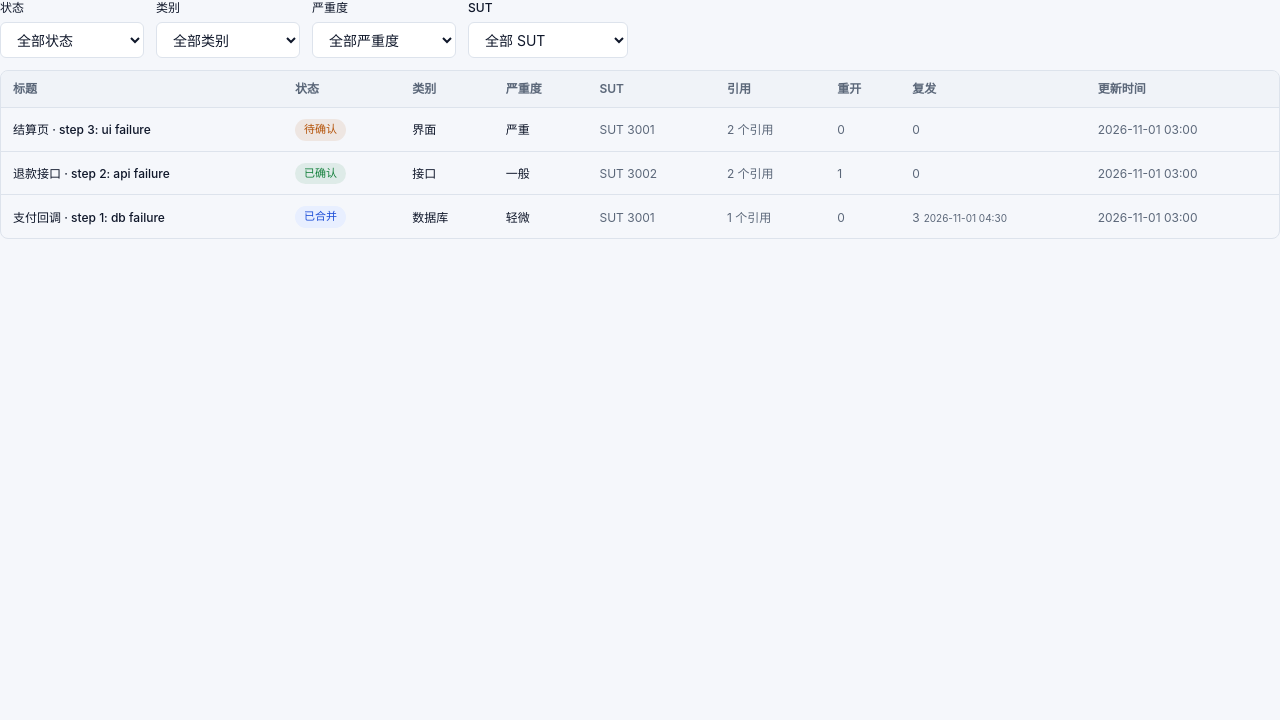
Test case: IssuesTab › closes the detail sheet and removes ?issue= from the URL
Click the button with test id "issue-9101".
click(82, 130)  # box [13, 122, 151, 138]
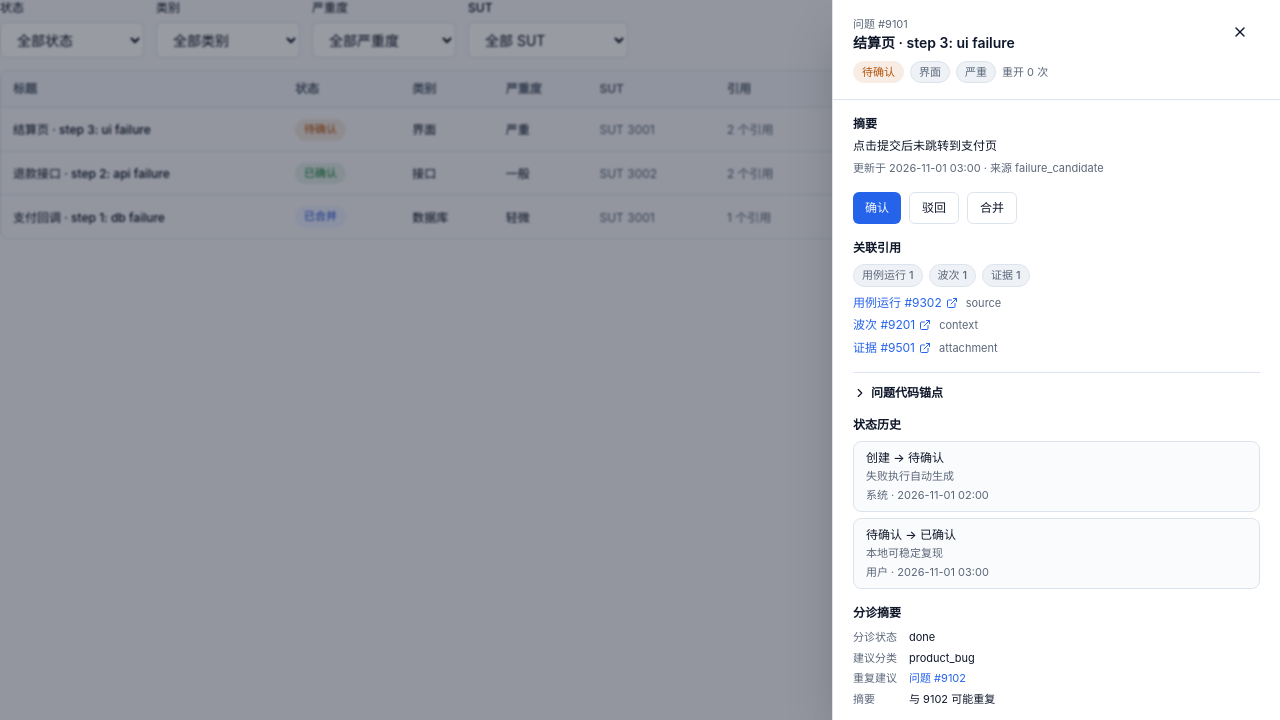
Click the button named "关闭详情".
click(1240, 32)  # box [1220, 16, 1260, 48]
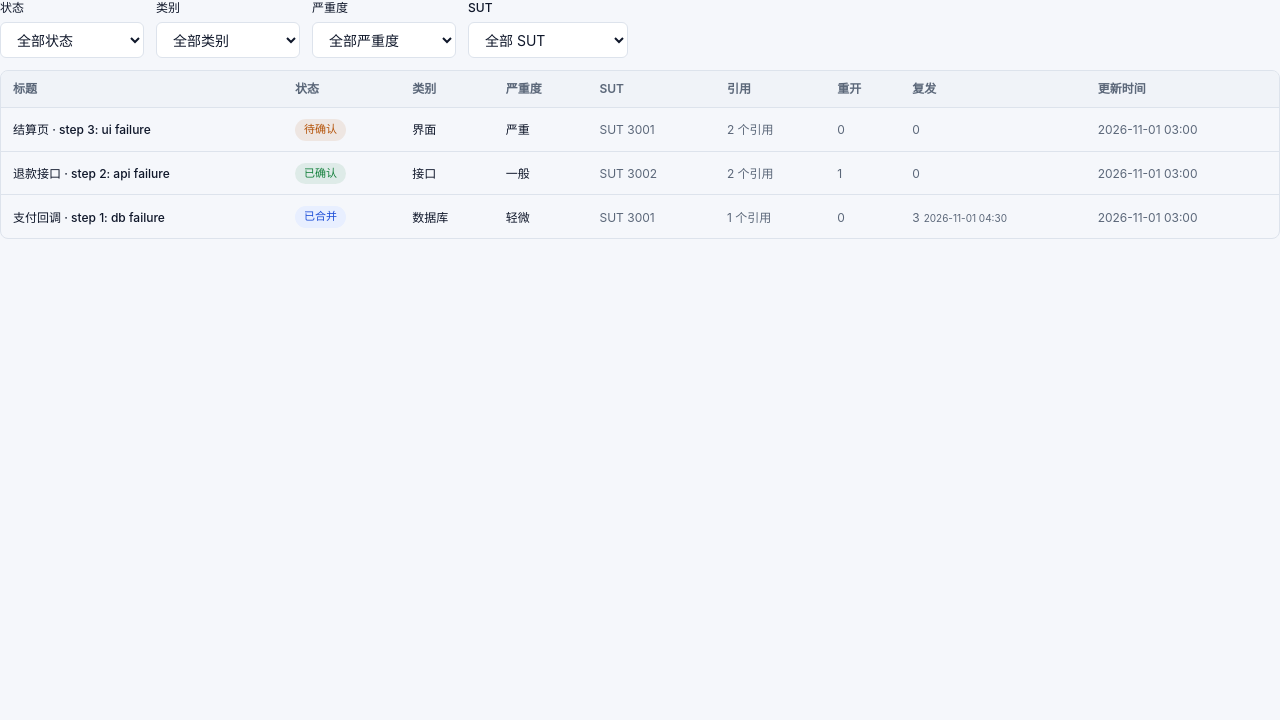
Check: the dialog "问题详情" is gone
